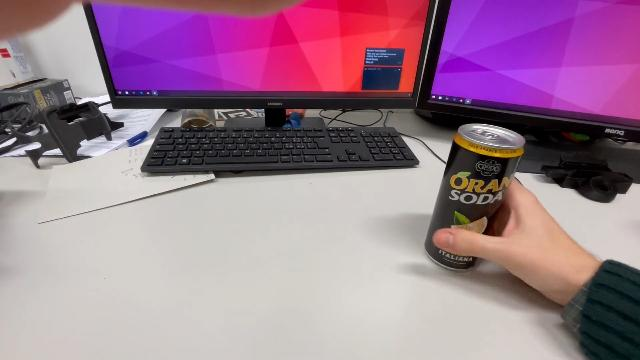OranSoda: (419, 120, 528, 274)
